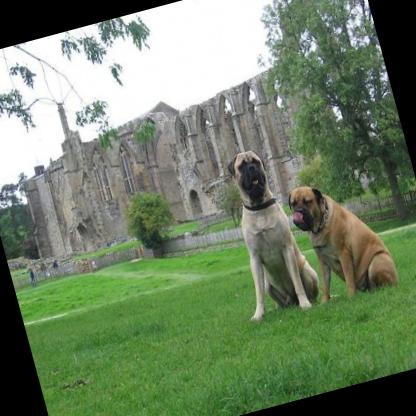bull_mastiff: (202, 138, 321, 324), (279, 156, 404, 310)
